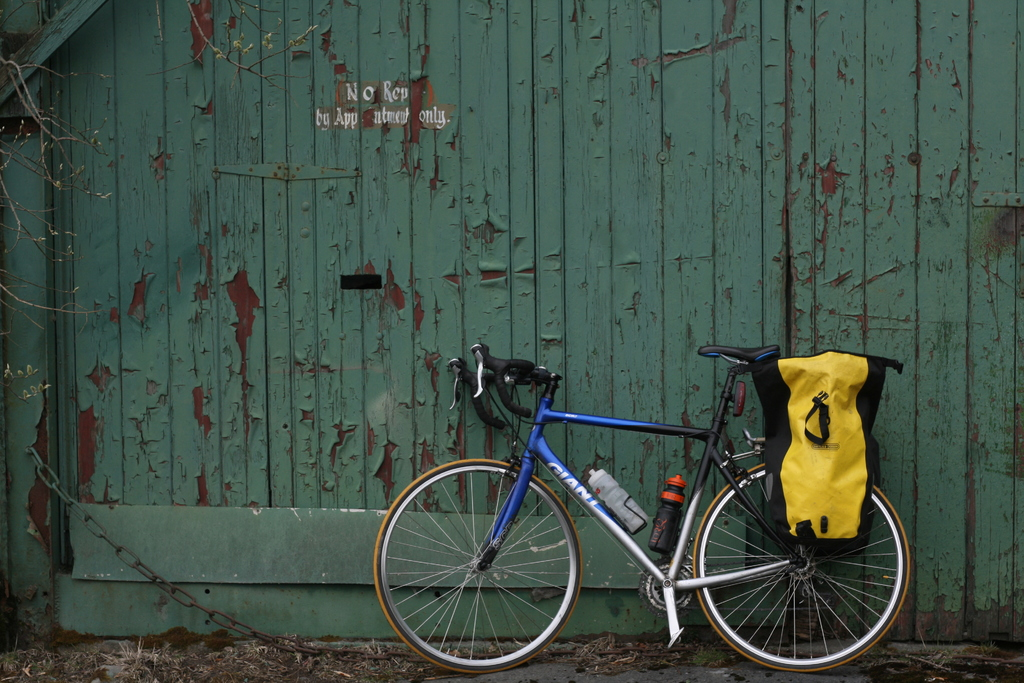Bike_toward: (330, 361, 952, 683)
